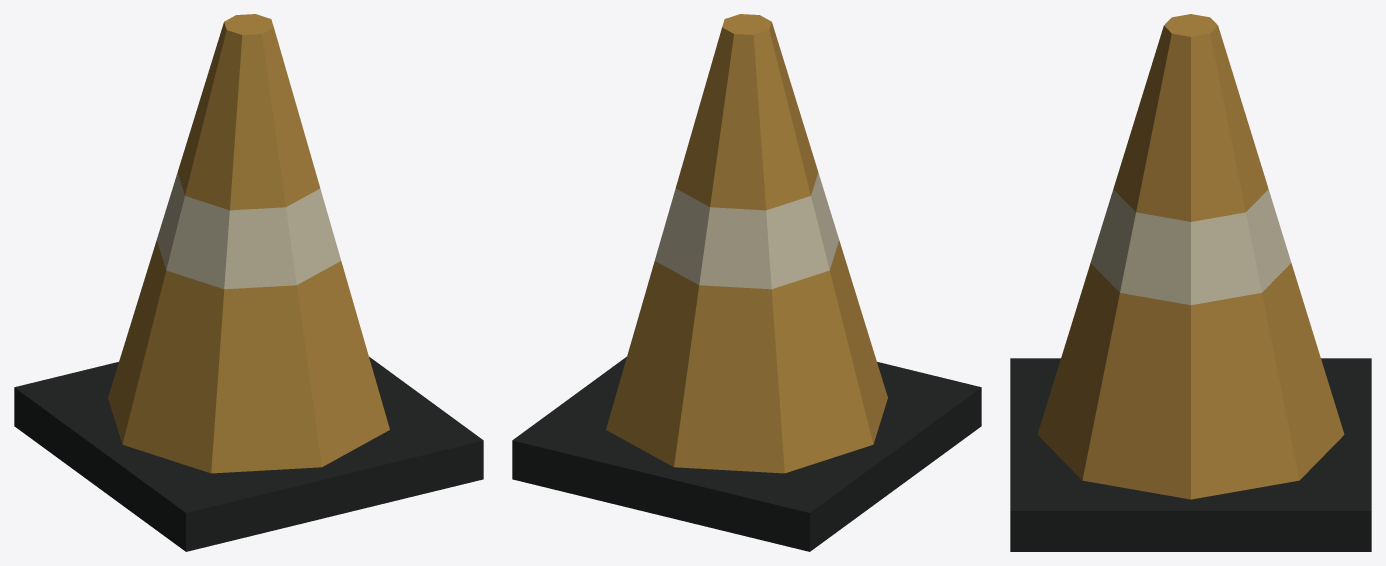
3 renders of one model, left to right at view 1: azimuth 30°, elevation 25°; view 2: azimuth 150°, elevation 25°; view 3: azimuth 270°, elevation 25°, orthographic. The views are drawn at different scales.
Visible parts, largest first — view 1: cone; view 2: cone; view 3: cone.
Boxes of the visible parts, <box> form: cone: <box>14,14,483,551</box>; cone: <box>512,14,981,551</box>; cone: <box>1010,14,1371,551</box>.
Size of the model in its own units: 0.4 by 0.55 by 0.4.
1 material, 1 textured.
